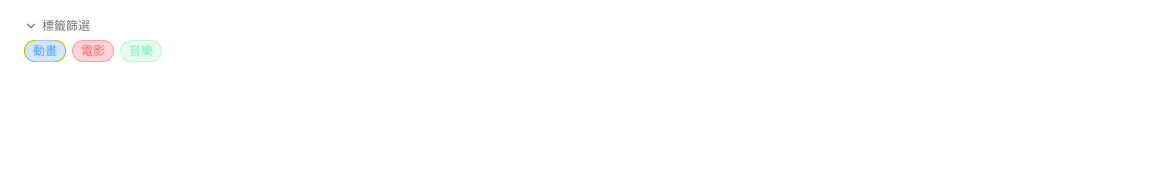
Test: SidebarTagFilter › 收合功能 › 收合時顯示已選取 Tag 數量
What coordinates should you click on to do the following:
click the button with test id "filter-header"
I would click on:
 (66, 26)
Its box is [12,12,1164,40].
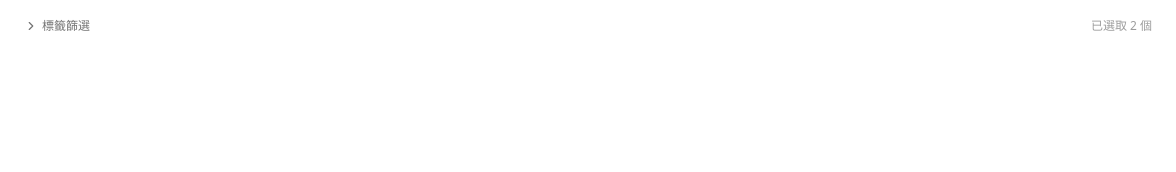
Check: the text "已選取 2 個" is shown, box [1091,18,1152,34]
